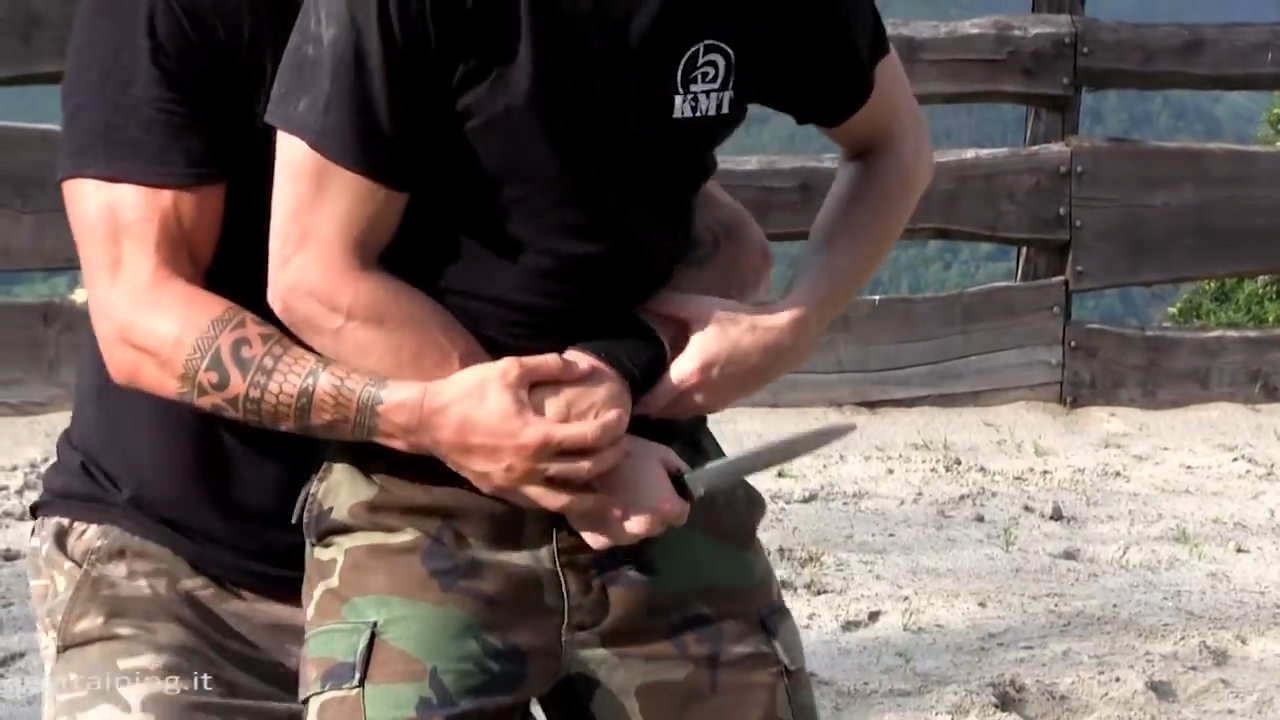knife: (578, 408, 866, 554)
